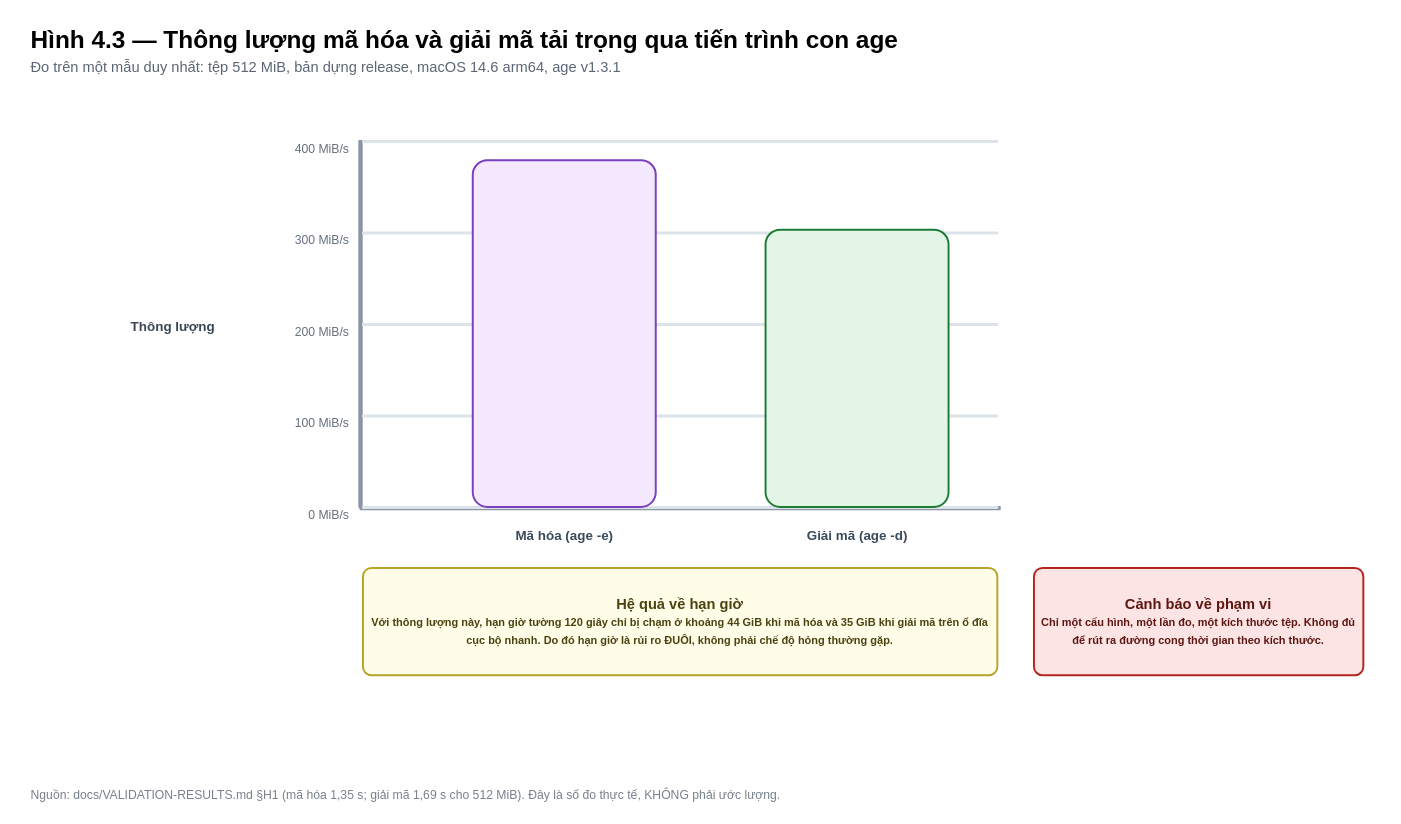
Some shapes in this 1401 by 824 pixel diagram are drawn without their labels. Here are the shapes that lost their labels. From the top down, the box of each, then its label:
(471, 159, 656, 507): 379 MiB/s
(764, 228, 949, 507): 303 MiB/s
